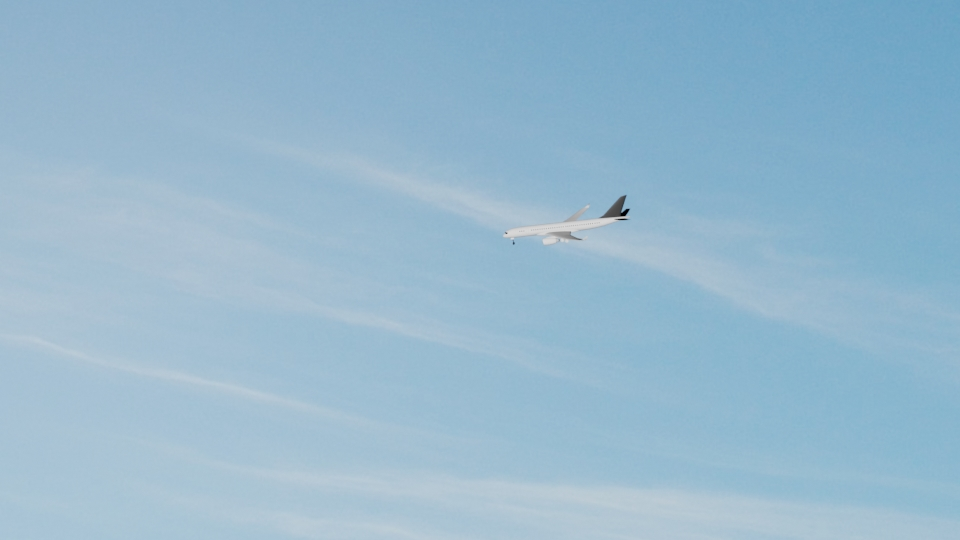plane: (500, 196, 631, 247)
